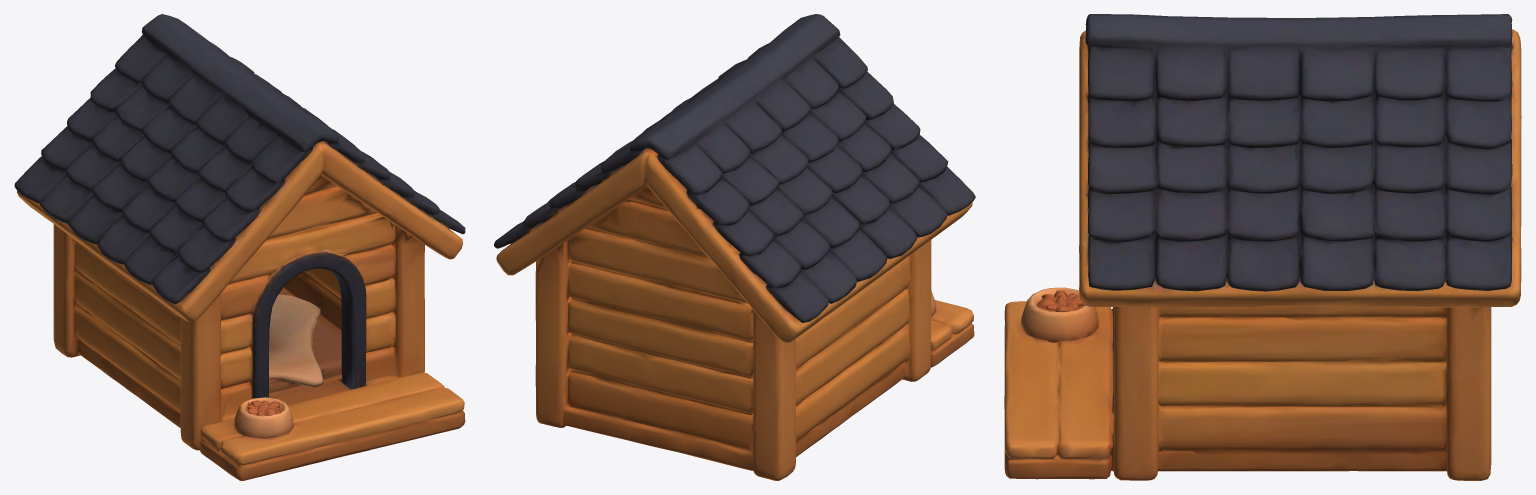
The model's file is 20-casinha-dog.glb.
The picture shows the model from 3 angles, left to right: view 1: azimuth 30°, elevation 25°; view 2: azimuth 150°, elevation 25°; view 3: azimuth 270°, elevation 25°; orthographic projection. The views are drawn at different scales.
Parts seen in each view (by area): view 1: tripo_node_f21921ef-b962-4e99-b2f6-95c335b14ac9; view 2: tripo_node_f21921ef-b962-4e99-b2f6-95c335b14ac9; view 3: tripo_node_f21921ef-b962-4e99-b2f6-95c335b14ac9.
Part boxes in pixels (left/top/right/bottom): tripo_node_f21921ef-b962-4e99-b2f6-95c335b14ac9: left=14, top=14, right=465, bottom=480; tripo_node_f21921ef-b962-4e99-b2f6-95c335b14ac9: left=494, top=14, right=975, bottom=480; tripo_node_f21921ef-b962-4e99-b2f6-95c335b14ac9: left=1004, top=14, right=1521, bottom=480.
Size of the model in its own units: 0.8684 by 0.842 by 1.
1 material, 1 textured.
